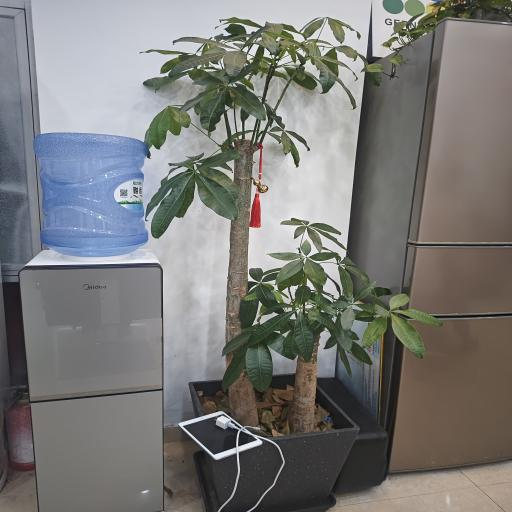water dispenser: (0, 0, 33, 387)
